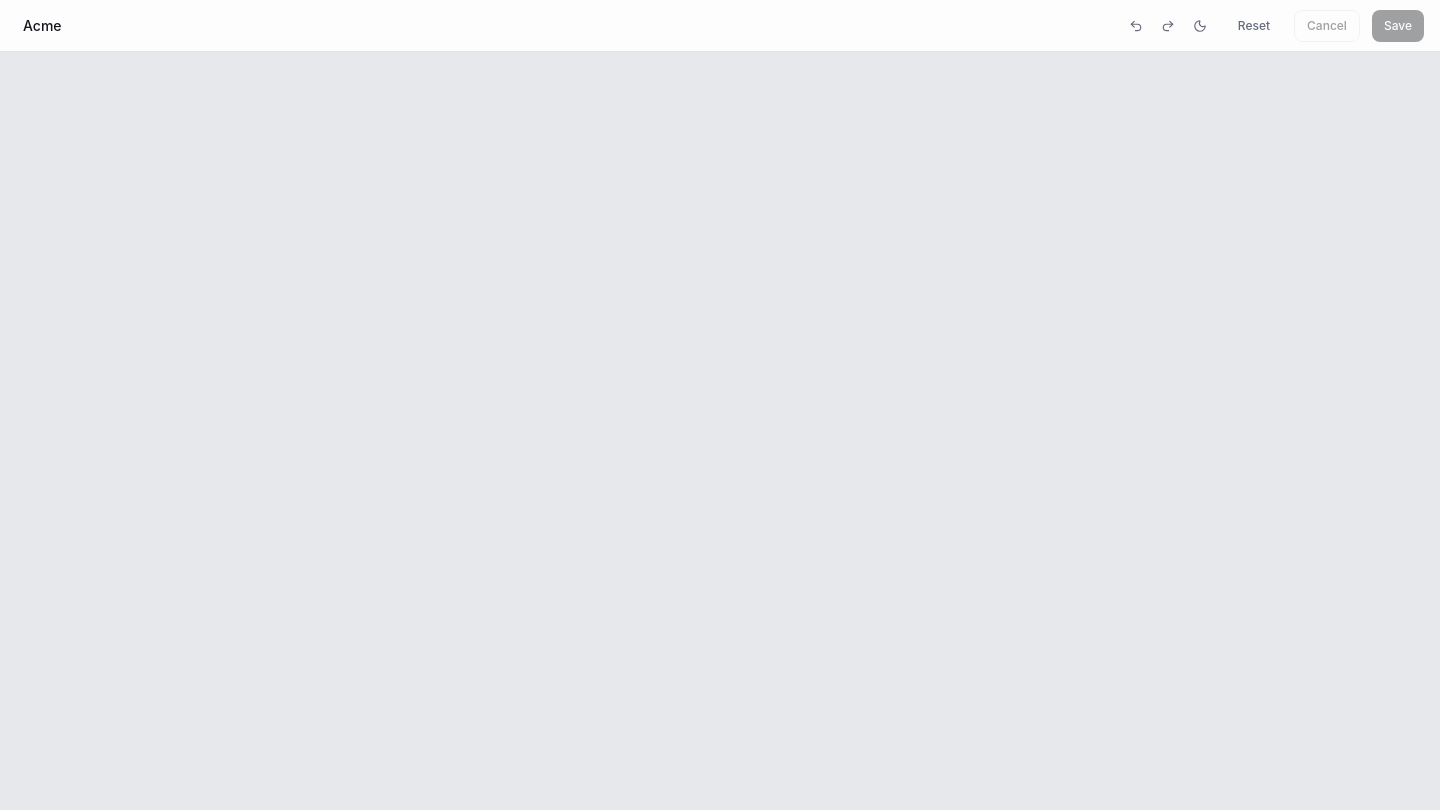
Scenario: TopBar keyboard shortcuts › opens the reset confirmation dialog
Click the button "Reset" at coordinates (1254, 26), box [1226,10,1282,42]
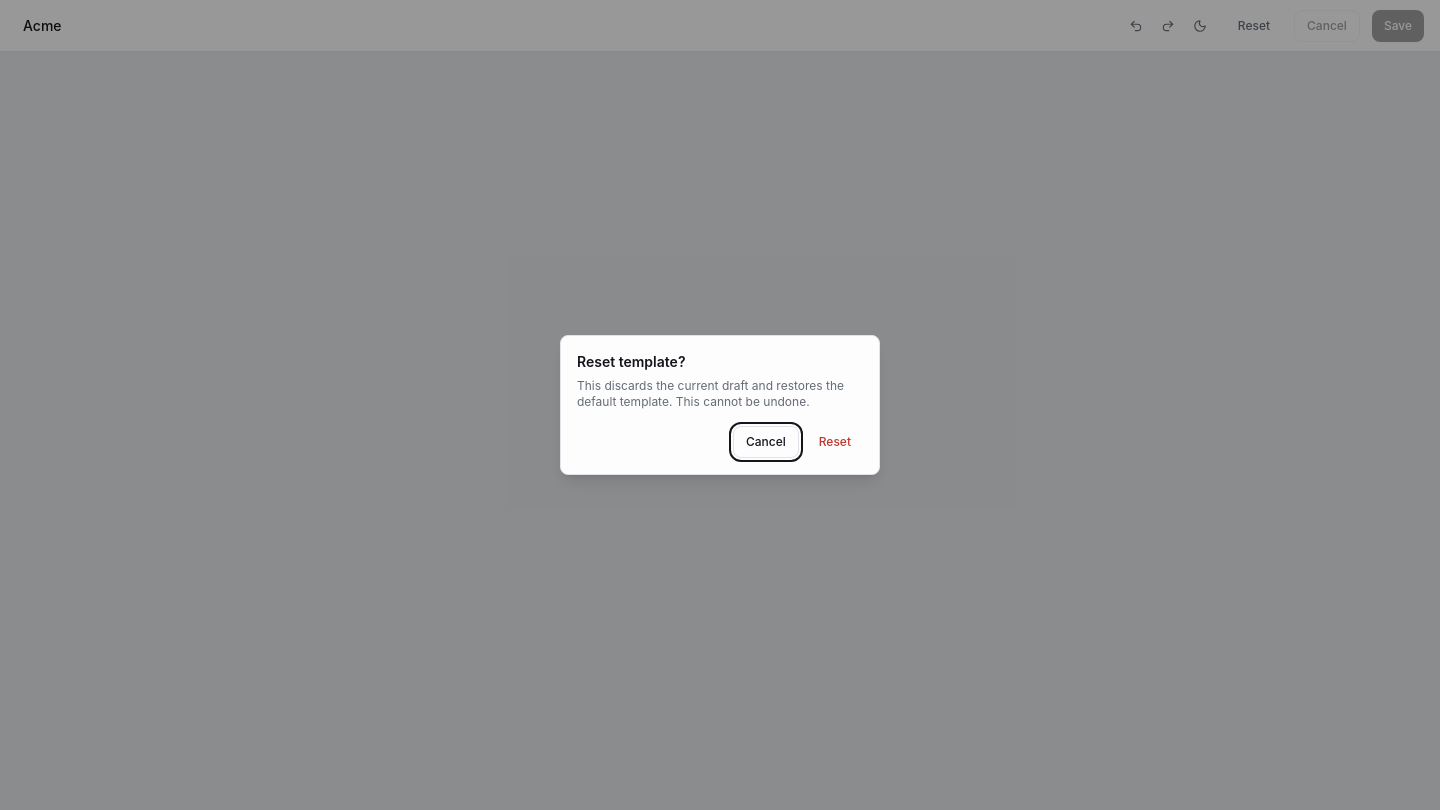
Expected: the dialog is shown, [560,335,880,475]
